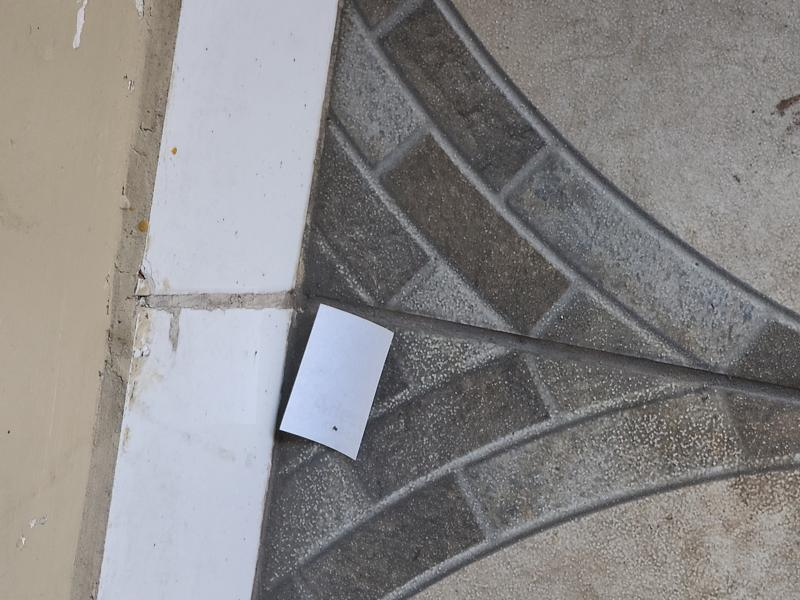papel: (280, 306, 394, 459)
